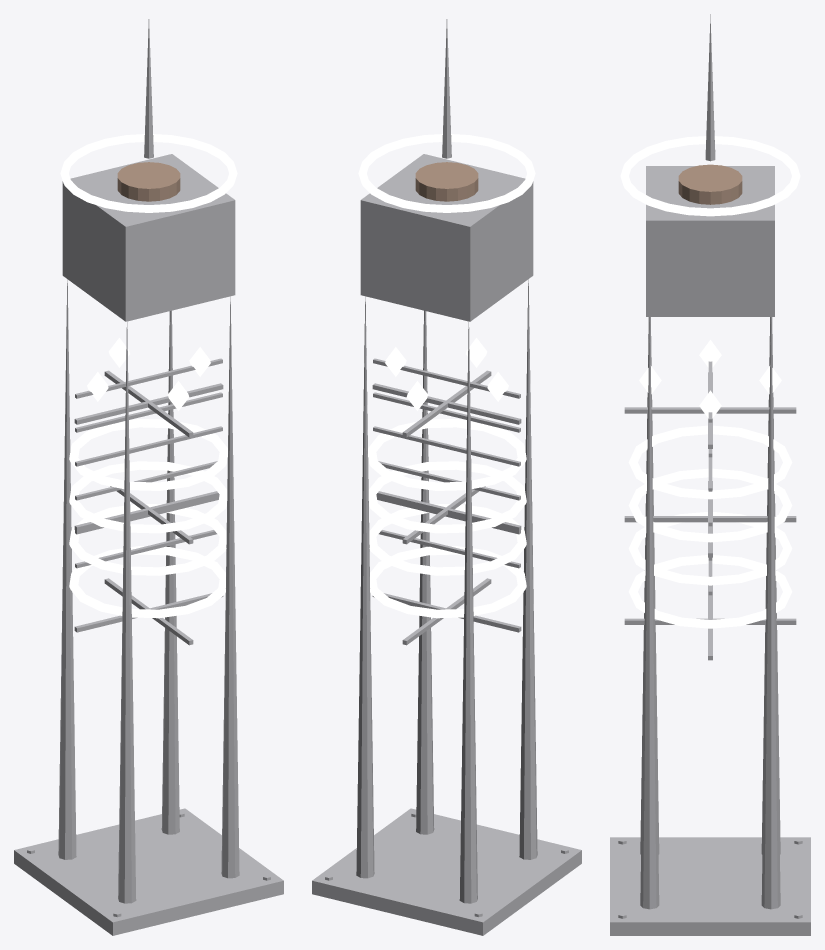
Rendered from derrick_divine.glb.
3 views of the same model, side by side, from view 1: azimuth 30°, elevation 25°; view 2: azimuth 150°, elevation 25°; view 3: azimuth 270°, elevation 25° (orthographic).
Visible parts, largest first — view 1: derrick; view 2: derrick; view 3: derrick.
Part boxes in pixels (left/top/right/bottom): derrick: left=14, top=19, right=283, bottom=935; derrick: left=312, top=19, right=581, bottom=935; derrick: left=610, top=14, right=810, bottom=935.
Bounding box in the file's own units: 2.11 × 10.2 × 2.11.
